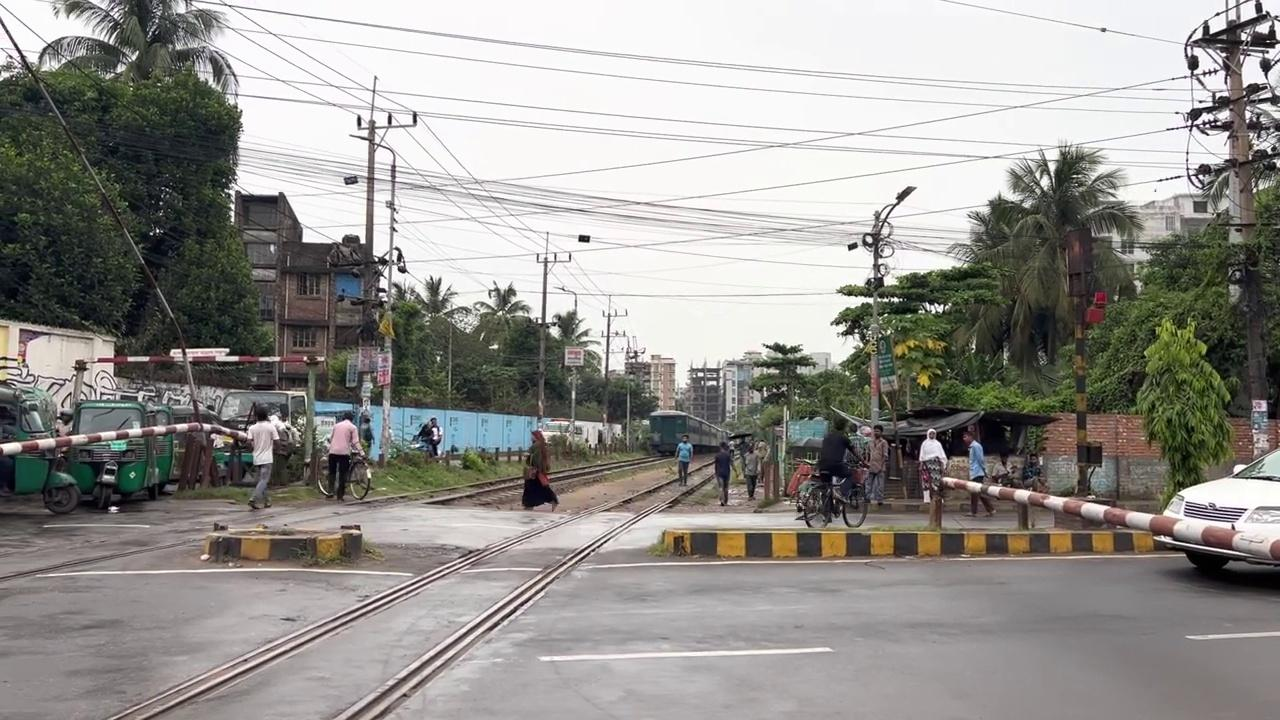Bollard: (1150, 446, 1279, 575)
Car: (660, 525, 1175, 559)
Downstairs: (200, 521, 362, 564)
Fence: (243, 402, 280, 509), (326, 410, 363, 502), (520, 429, 558, 511), (961, 430, 996, 516), (918, 427, 948, 503), (713, 441, 733, 505), (417, 417, 442, 461), (674, 433, 693, 486)
Garbage: (1063, 226, 1098, 496)
Motorcycle: (104, 447, 737, 718)
Railroad-crossing: (946, 137, 1144, 398), (1132, 314, 1234, 513)
Rickshaw: (0, 354, 80, 514), (646, 409, 738, 455)
